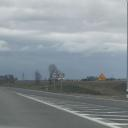speed_limit_100: (50, 72, 58, 78)
speed_limit_120: (58, 71, 65, 78)
